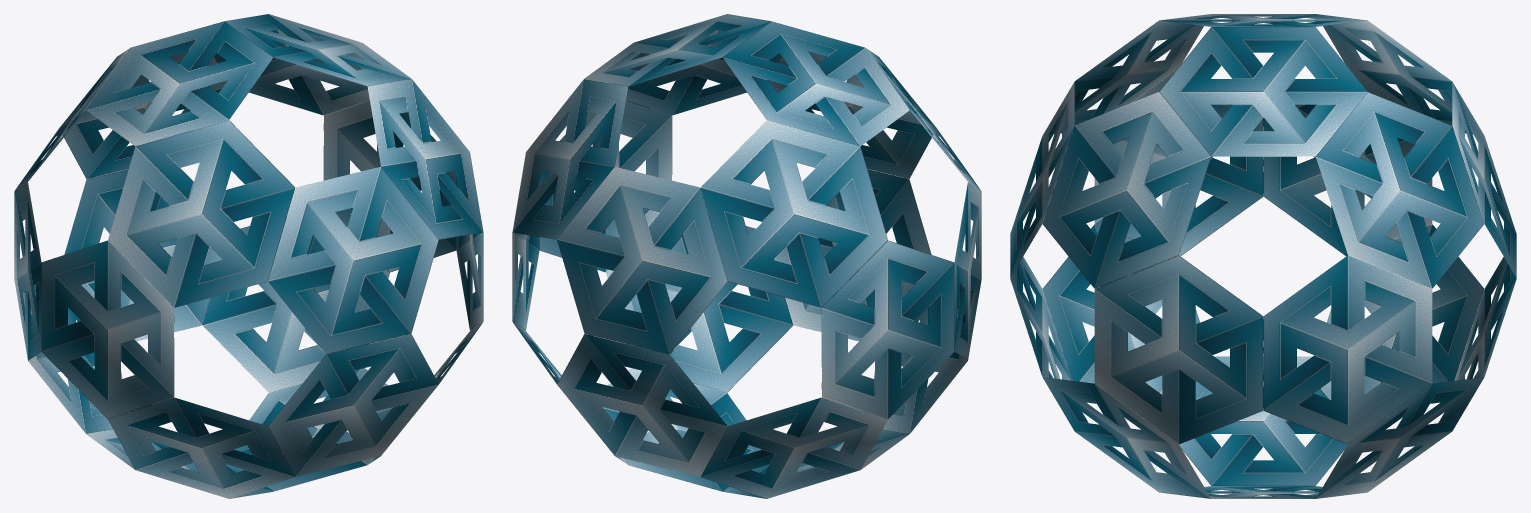
The model's file is TruncatedIcosahedron43.gltf.
3 views of the same model, side by side, from view 1: azimuth 30°, elevation 25°; view 2: azimuth 150°, elevation 25°; view 3: azimuth 270°, elevation 25° (orthographic). The views are drawn at different scales.
Visible parts, largest first — view 1: TruncatedIcosahedron; view 2: TruncatedIcosahedron; view 3: TruncatedIcosahedron.
Part boxes in pixels (box(x1,y1,x2,y2)): TruncatedIcosahedron: box(14, 14, 483, 498); TruncatedIcosahedron: box(512, 14, 981, 498); TruncatedIcosahedron: box(1010, 14, 1516, 498).
Bounding box in the file's own units: 4.85 × 4.85 × 4.85.
Materials: 2 (2 with a texture image).
